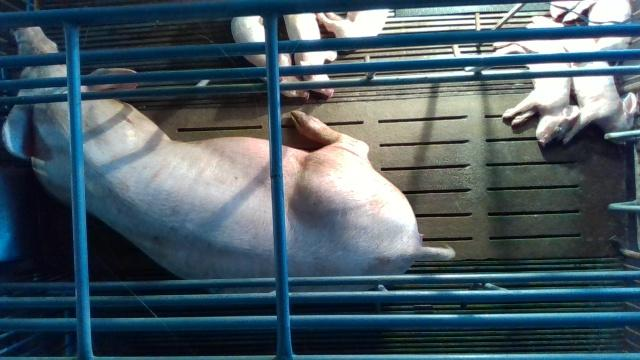piglet: (526, 16, 637, 145), (466, 40, 581, 148), (231, 15, 309, 99), (284, 13, 337, 97), (550, 0, 632, 50), (316, 9, 389, 38)
sow-sit: (2, 24, 456, 292)
